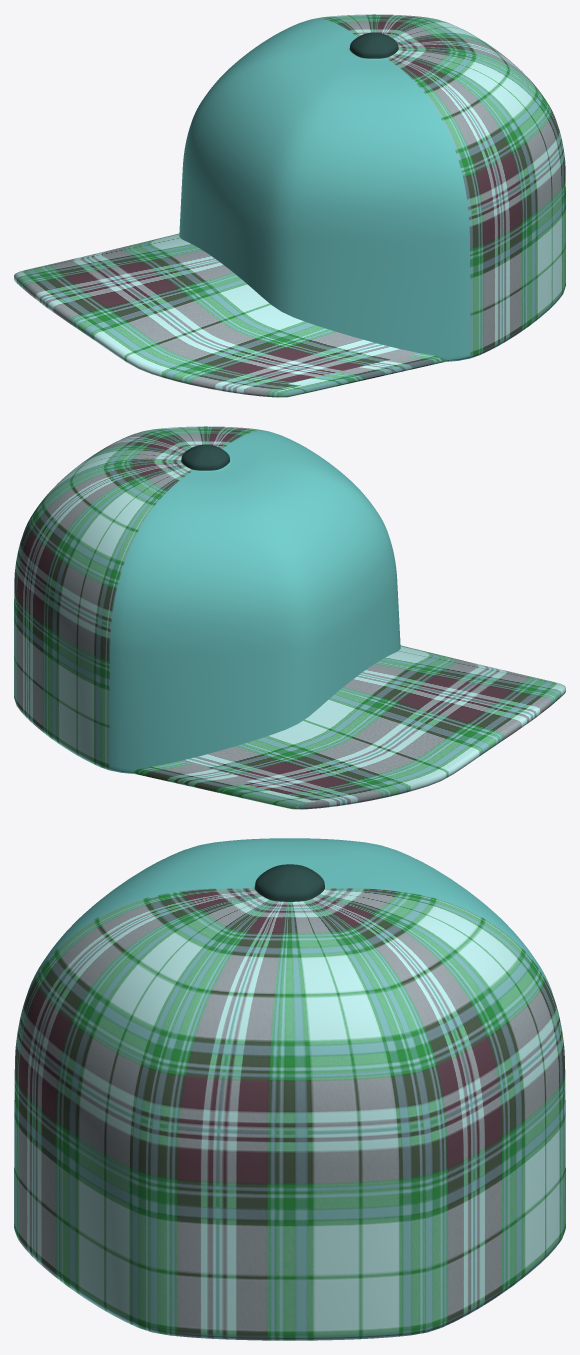
Rendered from Kepka.fbx.
3 views of the same model, one above another, from view 1: azimuth 30°, elevation 25°; view 2: azimuth 150°, elevation 25°; view 3: azimuth 270°, elevation 25° (orthographic). The views are drawn at different scales.
Parts seen in each view (by area): view 1: Circle, Circle.001; view 2: Circle, Circle.001; view 3: Circle.
Boxes of the visible parts, left/top/right/bottom form: Circle: left=179, top=14, right=565, bottom=362; Circle.001: left=14, top=233, right=445, bottom=397; Circle: left=14, top=426, right=400, bottom=774; Circle.001: left=134, top=645, right=565, bottom=809; Circle: left=14, top=838, right=565, bottom=1340.
Bounding box in the file's own units: 0.2775 × 0.1388 × 0.1906.
Materials: 2 (2 with a texture image).
